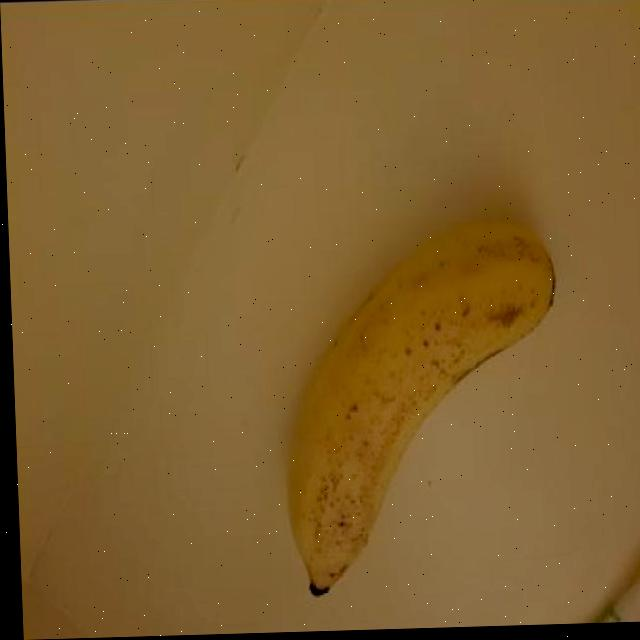banana: (266, 205, 580, 608)
